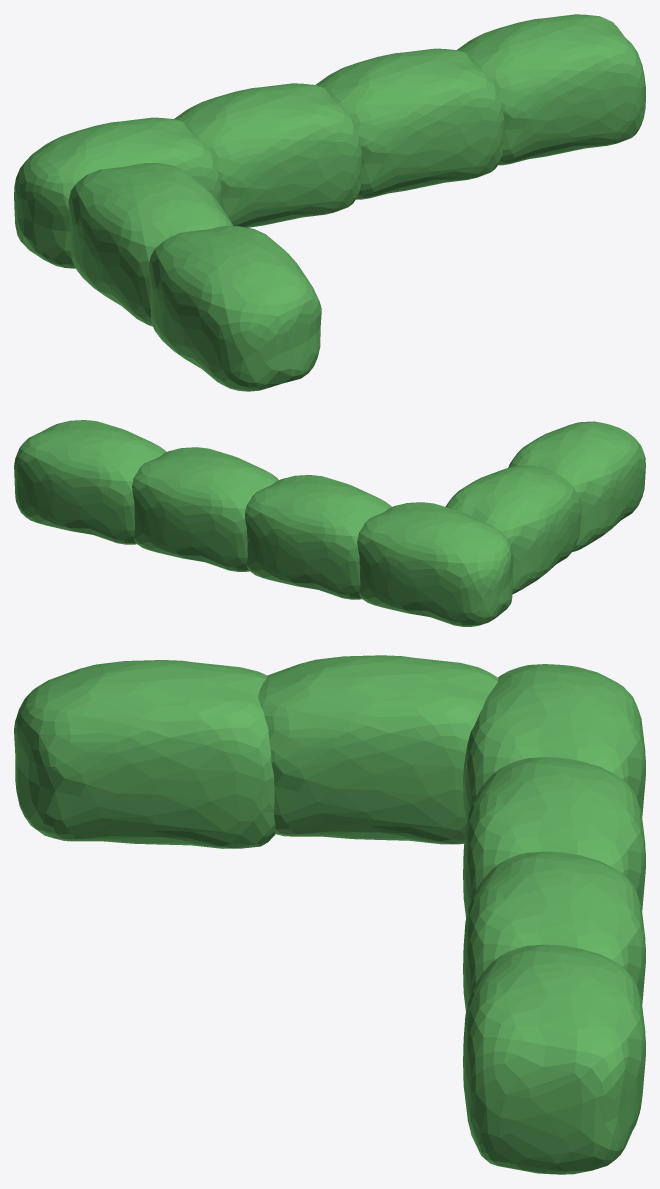
The model's file is arbusto4LargosEsquina.glb.
3 views of the same model, one above another, from view 1: azimuth 30°, elevation 25°; view 2: azimuth 150°, elevation 25°; view 3: azimuth 270°, elevation 25° (orthographic). The views are drawn at different scales.
Parts seen in each view (by area): view 1: Icosphere.006; view 2: Icosphere.006; view 3: Icosphere.006.
Part boxes in pixels (<box>): Icosphere.006: <box>14,14,645,391</box>; Icosphere.006: <box>14,420,645,626</box>; Icosphere.006: <box>14,655,645,1174</box>.
Size of the model in its own units: 2.11 by 0.3989 by 1.4.
